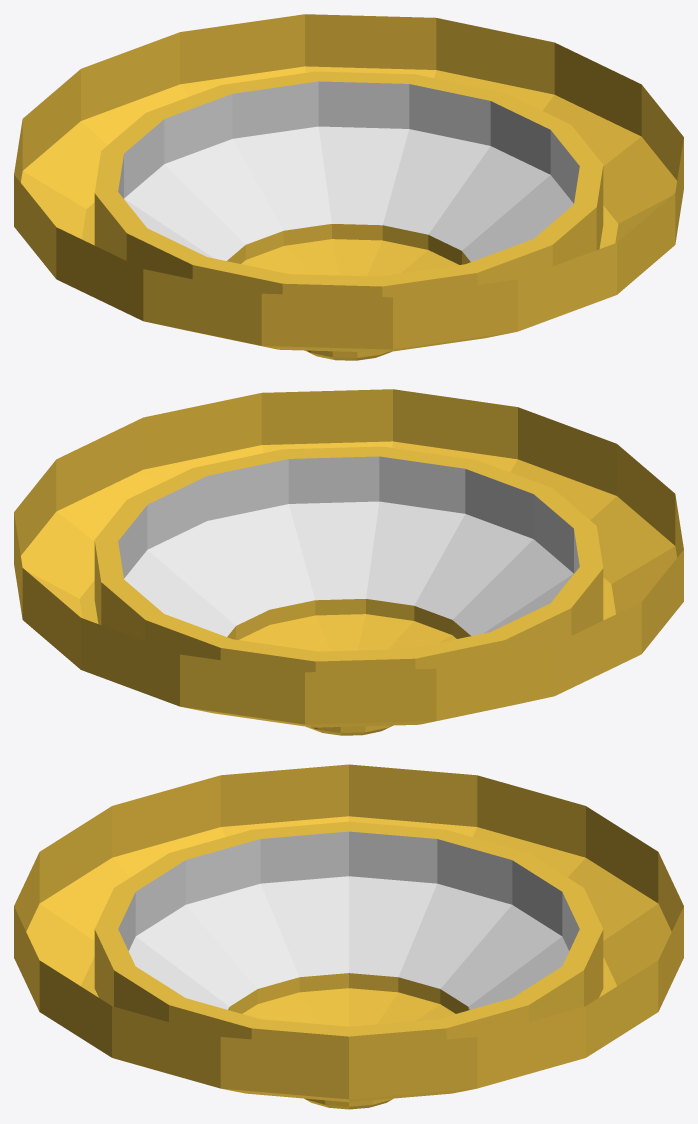
File: ceiling.fbx
The picture shows the model from 3 angles, top to bottom: view 1: azimuth 30°, elevation 25°; view 2: azimuth 150°, elevation 25°; view 3: azimuth 270°, elevation 25°; orthographic projection.
Parts seen in each view (by area): view 1: CeilingLight; view 2: CeilingLight; view 3: CeilingLight.
Boxes of the visible parts, x1=… form: CeilingLight: x1=14, y1=14, x2=683, y2=360; CeilingLight: x1=14, y1=389, x2=683, y2=735; CeilingLight: x1=14, y1=764, x2=683, y2=1109.
Size of the model in its own units: 1.04 by 0.331 by 1.04.
Materials: 2 (1 with a texture image).
